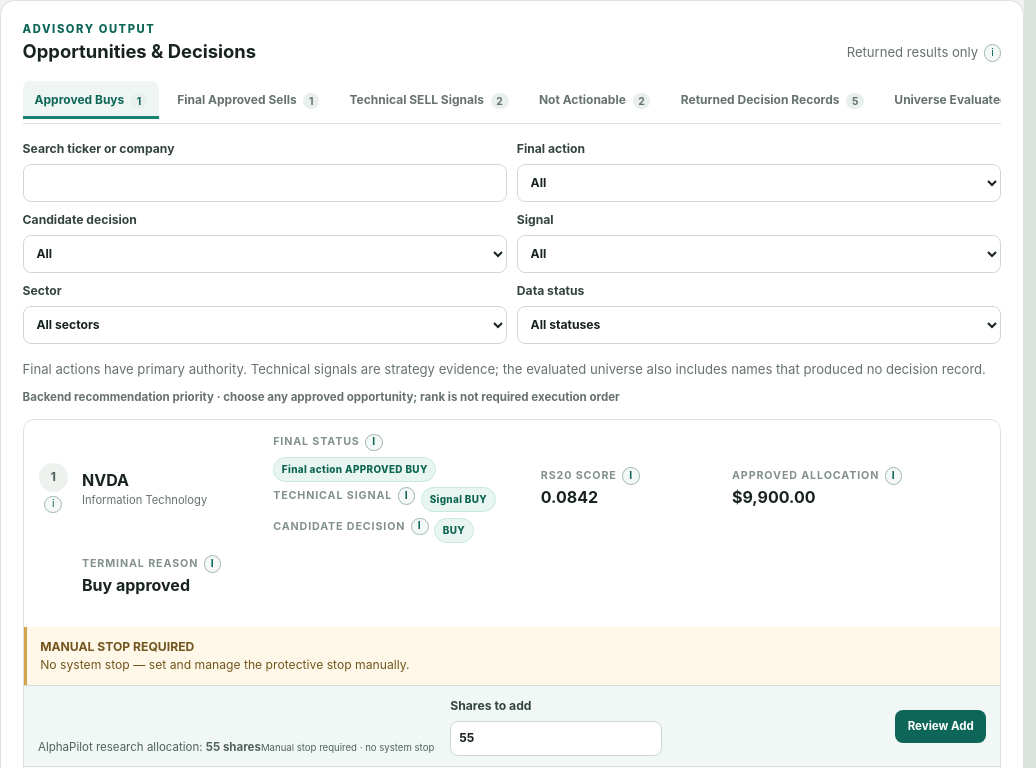
Test: apply actions are limited to approved portfolio decisions on a clean plan
Expected: the button "Review Add" is shown, [896,710,986,743]
Click the tab "Final Approved Sells 1": (248, 100) [165,81,331,119]
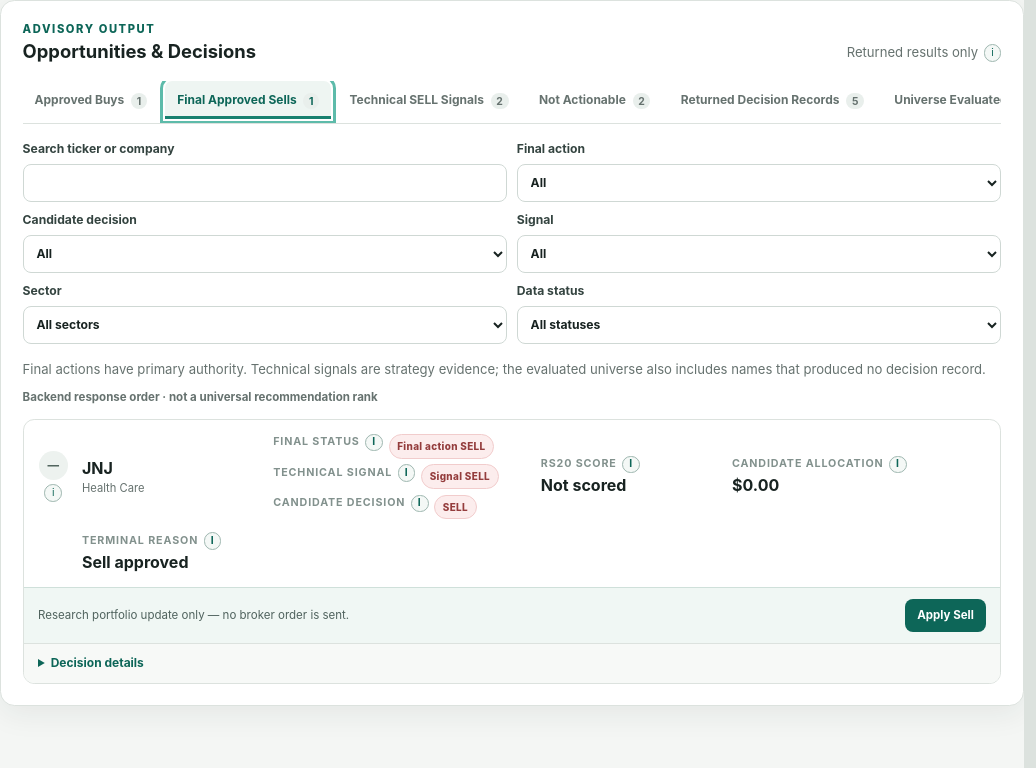
Expected: the button "Apply Sell" is shown, [905,599,986,632]
Click the tab "Technical SELL Signals 2": (429, 100) [338,81,520,119]
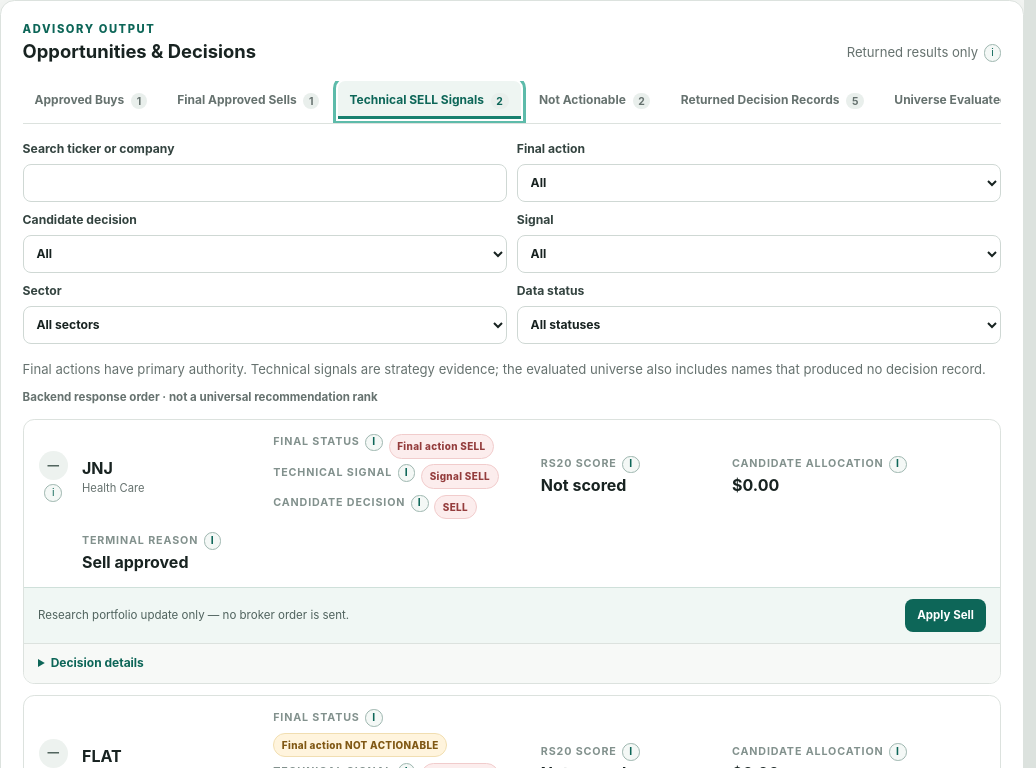
Expected: the number of buttons "Apply Sell" is 1, [905,599,986,632]
Click the tab "Not Actionable 2": (595, 100) [527,81,662,119]
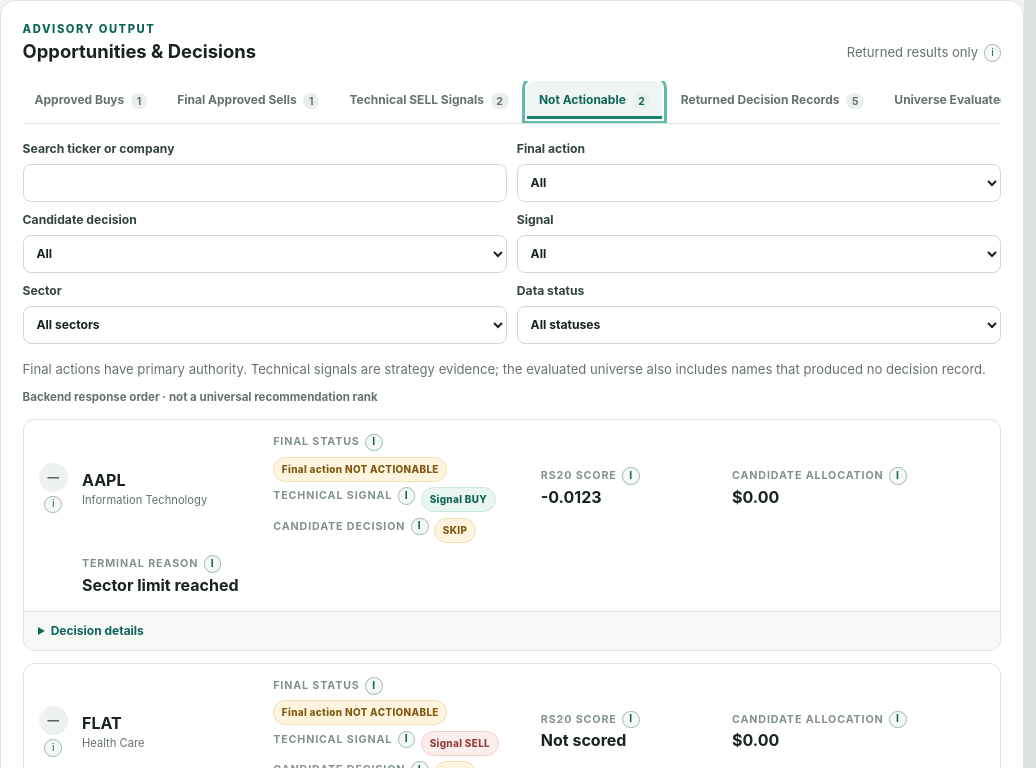
Expected: the button "Apply Sell" is gone
